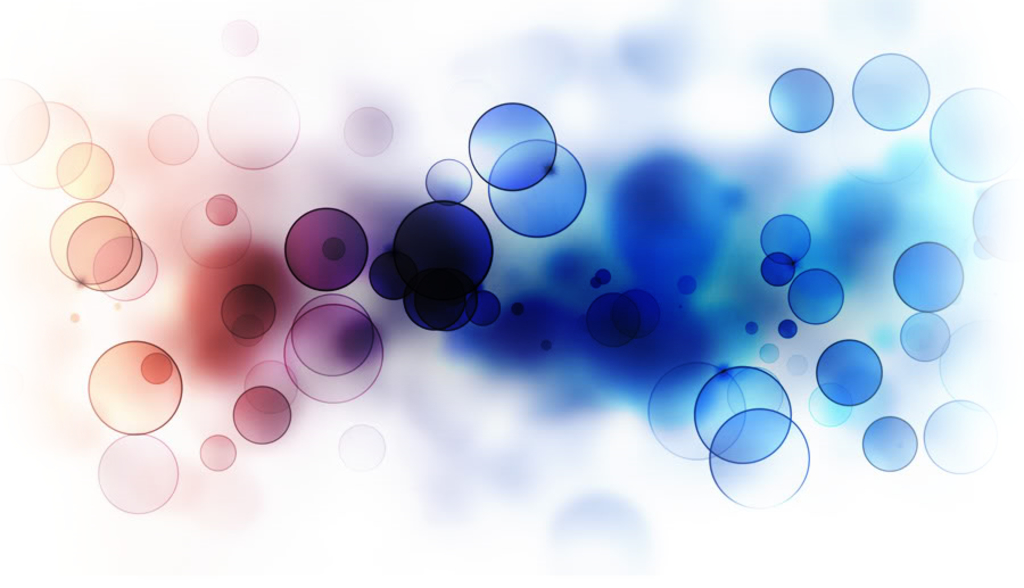Ball: (0, 53, 1023, 519)
